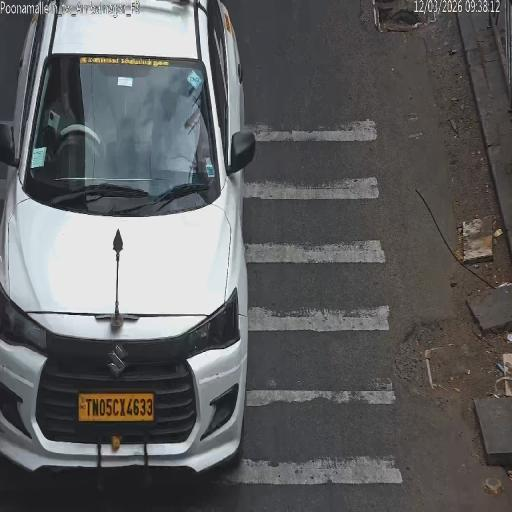person_with_seatbelt: (148, 102, 197, 169), (60, 93, 93, 149)
